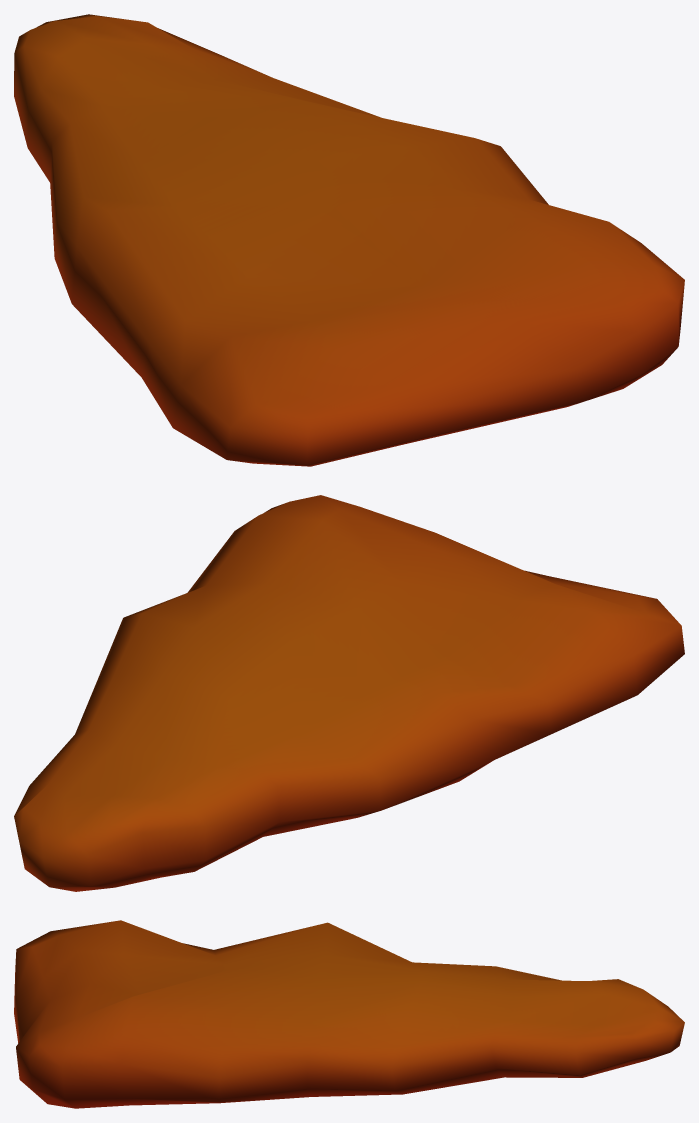
File: fish.glb
3 renders of one model, top to bottom at view 1: azimuth 30°, elevation 25°; view 2: azimuth 150°, elevation 25°; view 3: azimuth 270°, elevation 25°, orthographic. The views are drawn at different scales.
Visible parts, largest first — view 1: geometry_0; view 2: geometry_0; view 3: geometry_0.
Part boxes in pixels (bbox=[...]): geometry_0: bbox=[14, 14, 684, 466]; geometry_0: bbox=[14, 495, 684, 891]; geometry_0: bbox=[14, 920, 684, 1108].
Bounding box in the file's own units: 0.0913 × 0.0272 × 0.1645.
Materials: 1 (1 with a texture image).
